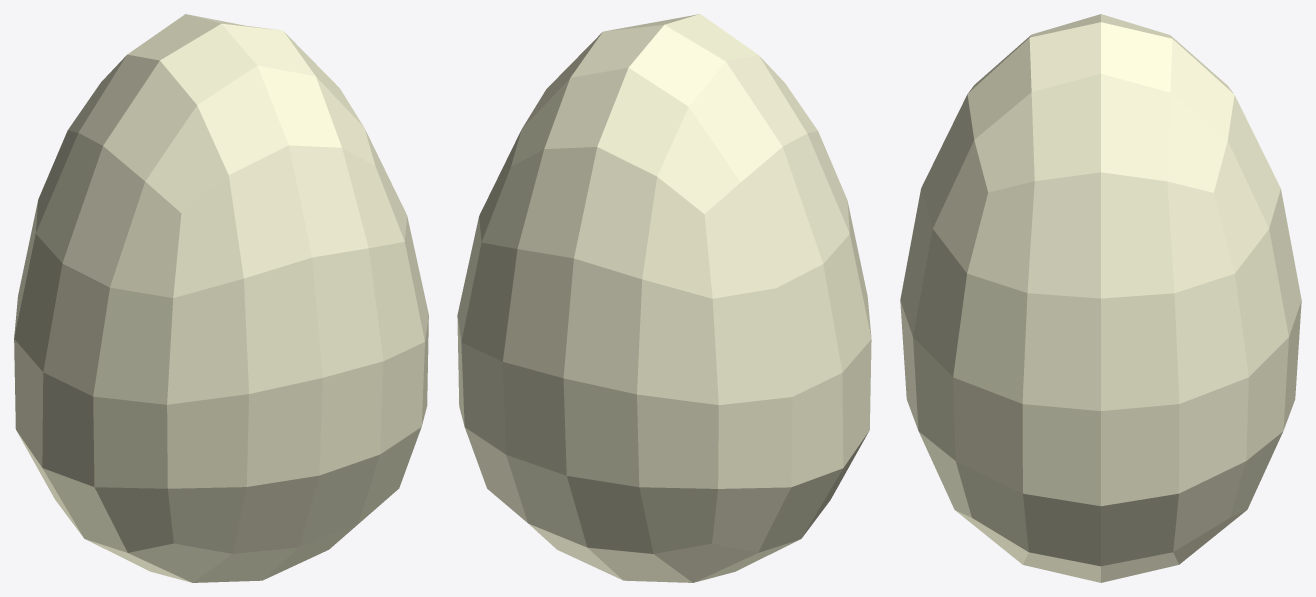
File: egg.fbx
3 renders of one model, left to right at view 1: azimuth 30°, elevation 25°; view 2: azimuth 150°, elevation 25°; view 3: azimuth 270°, elevation 25°, orthographic.
Parts seen in each view (by area): view 1: egg; view 2: egg; view 3: egg.
Boxes of the visible parts, box(x1,y1,x2,y2) form: egg: box(14, 14, 428, 582); egg: box(457, 14, 871, 582); egg: box(900, 14, 1301, 582).
Size of the model in its own units: 68.29 by 99.44 by 66.8.
